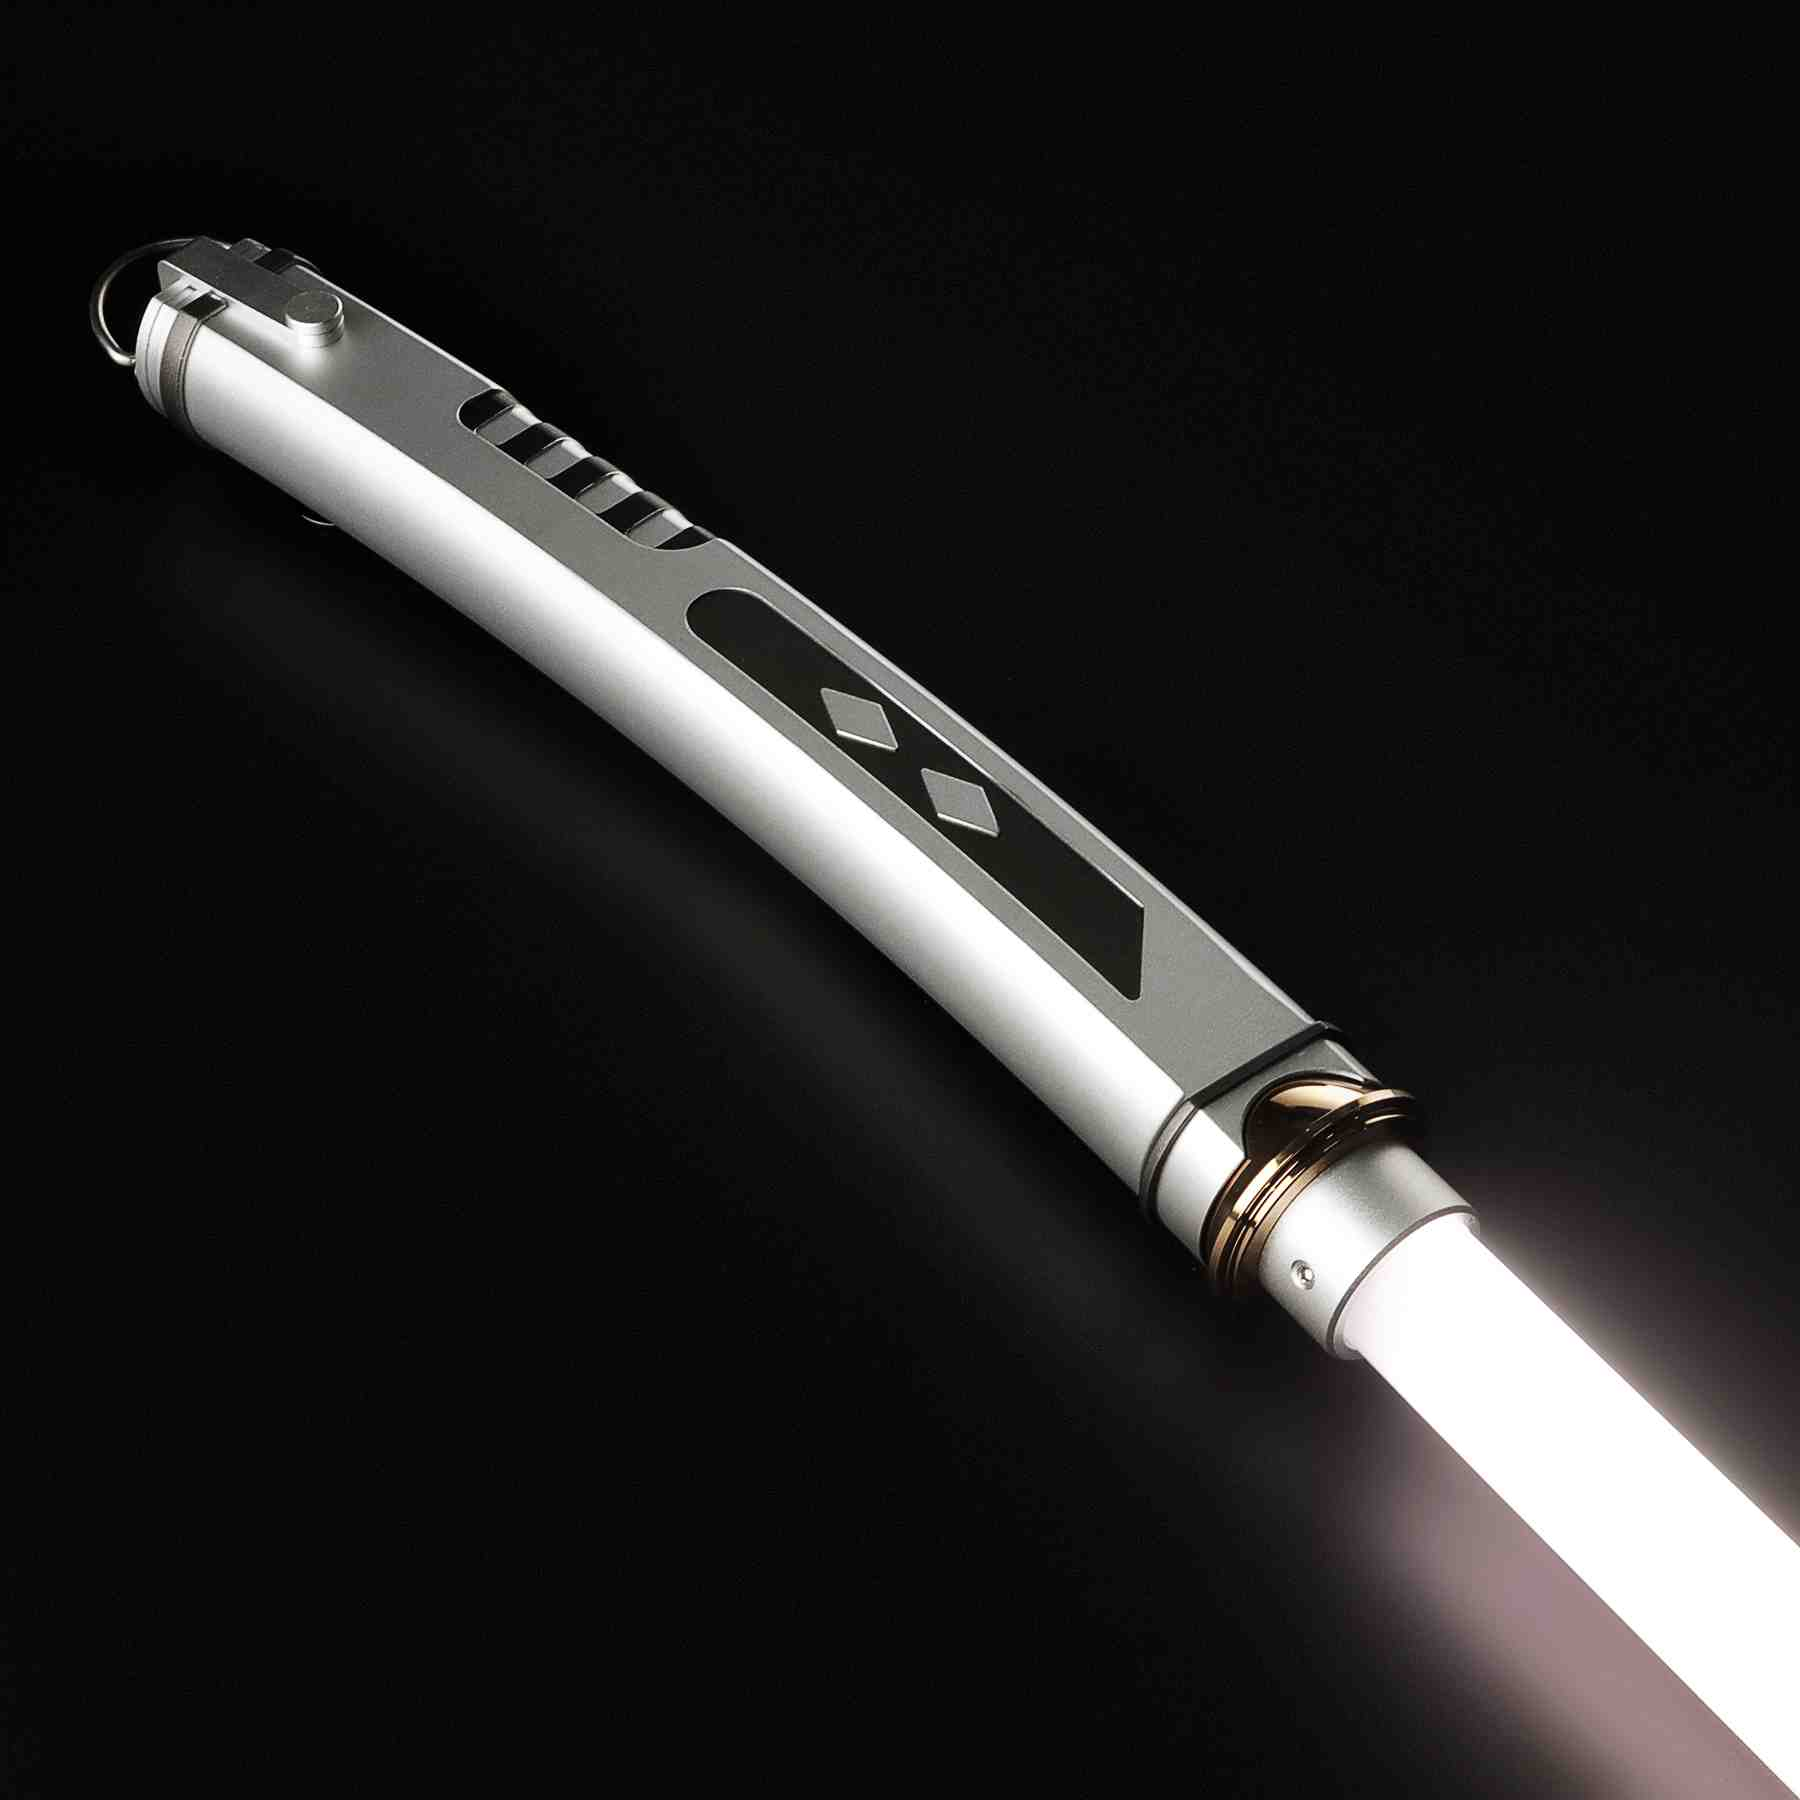lightsaber: (21, 204, 1800, 1800)
